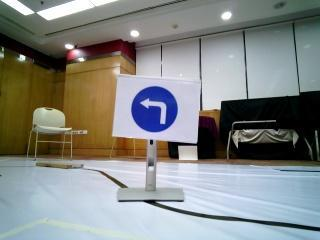left: (120, 77, 195, 140)
